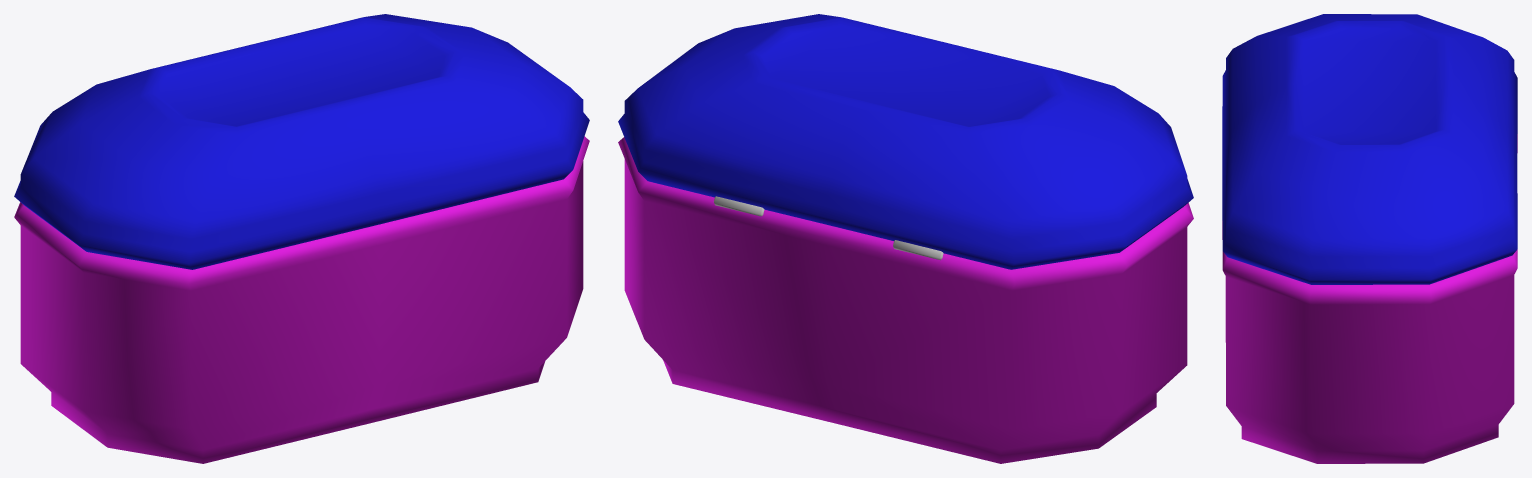
Rendered from Chest.fbx.
3 views of the same model, side by side, from view 1: azimuth 30°, elevation 25°; view 2: azimuth 150°, elevation 25°; view 3: azimuth 270°, elevation 25° (orthographic). The views are drawn at different scales.
Parts seen in each view (by area): view 1: Chest_02_closed; view 2: Chest_02_closed; view 3: Chest_02_closed.
Boxes of the visible parts, bbox=[...] form: Chest_02_closed: bbox=[14, 14, 589, 463]; Chest_02_closed: bbox=[618, 14, 1193, 463]; Chest_02_closed: bbox=[1222, 14, 1517, 463].
Size of the model in its own units: 4.44 by 2.49 by 2.39.
